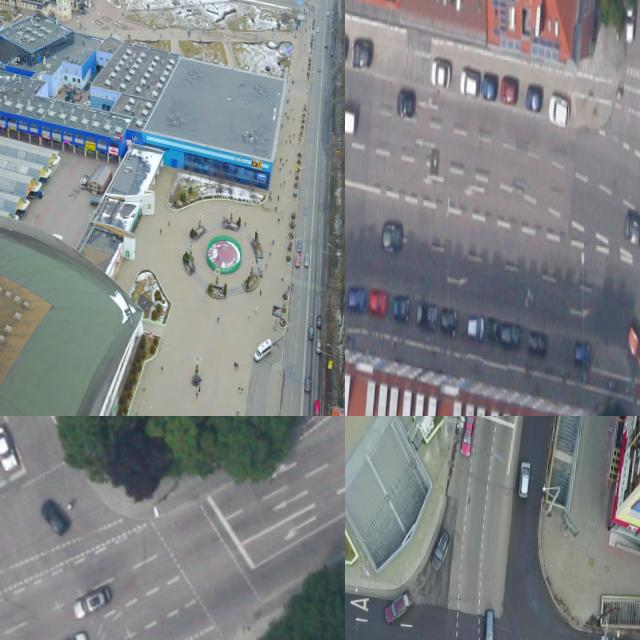UAI: (70, 582, 113, 623), (37, 496, 72, 538), (383, 588, 413, 625), (430, 529, 453, 574), (0, 423, 19, 473), (548, 94, 571, 128), (625, 320, 640, 372), (459, 416, 475, 458), (381, 222, 403, 252), (352, 38, 373, 69), (527, 330, 548, 361), (500, 320, 523, 348), (416, 300, 437, 330), (517, 459, 532, 501), (623, 210, 640, 246), (439, 307, 458, 338), (430, 60, 451, 88), (525, 83, 544, 113), (500, 74, 519, 104), (467, 313, 486, 343), (480, 70, 498, 101), (481, 608, 498, 640), (397, 89, 416, 117), (574, 338, 591, 369), (460, 70, 480, 96), (393, 295, 411, 323), (348, 286, 367, 312), (369, 290, 387, 316), (626, 0, 637, 42), (52, 628, 89, 640), (487, 316, 500, 344), (345, 105, 357, 135), (304, 373, 313, 394), (313, 396, 321, 416), (308, 324, 315, 340), (316, 339, 323, 355), (295, 254, 302, 268), (316, 314, 322, 329), (297, 239, 303, 253), (304, 254, 310, 268), (318, 65, 322, 72), (325, 43, 328, 49), (317, 27, 320, 33)
harvester: (253, 338, 274, 365)
